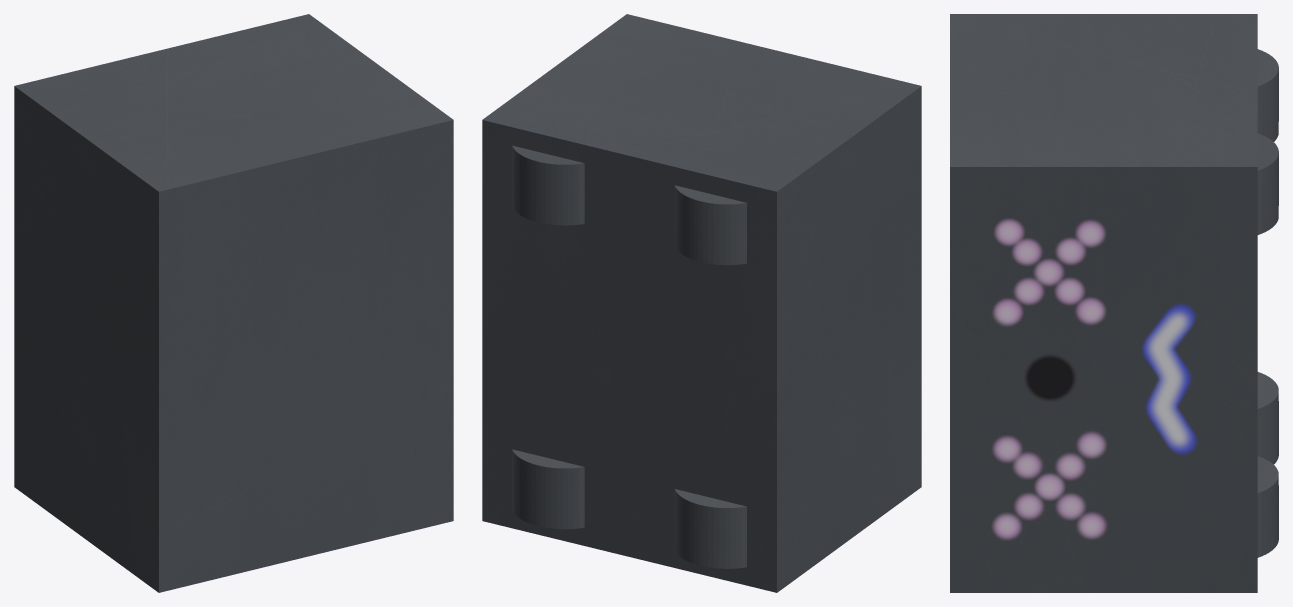
File: chassis.obj
3 renders of one model, left to right at view 1: azimuth 30°, elevation 25°; view 2: azimuth 150°, elevation 25°; view 3: azimuth 270°, elevation 25°, orthographic. The views are drawn at different scales.
Visible parts, largest first — view 1: chassis_0; view 2: chassis_0; view 3: chassis_0.
Part boxes in pixels (x1=…): chassis_0: x1=14, y1=14, x2=453, y2=592; chassis_0: x1=482, y1=14, x2=921, y2=592; chassis_0: x1=950, y1=14, x2=1278, y2=592.
Size of the model in its own units: 0.254 by 0.3302 by 0.2309.
Materials: 1 (1 with a texture image).
